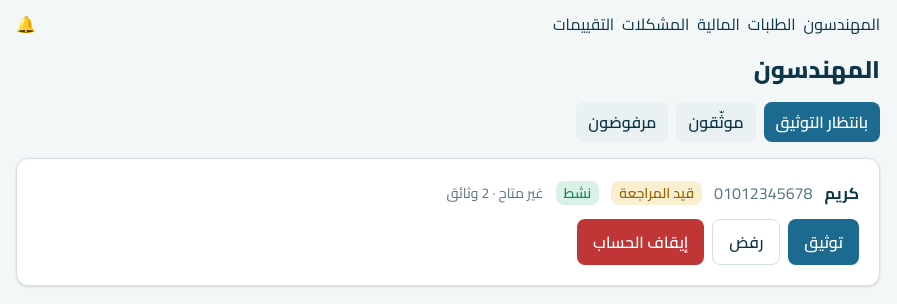
it: admin engineers page › shows an empty state, and approves a pending engineer
Expected: the text "كريم" is shown, [824,179,859,207]
Click the button "توثيق" at (824, 242), box [788,219,859,265]
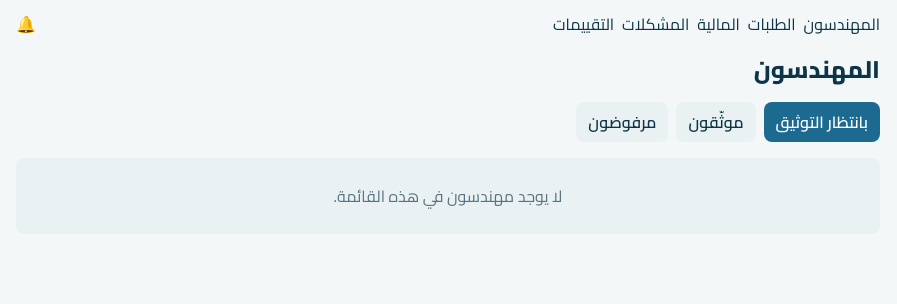
Now the text "لا يوجد مهندسون في هذه القائمة." is shown, box [16,158,880,234]
